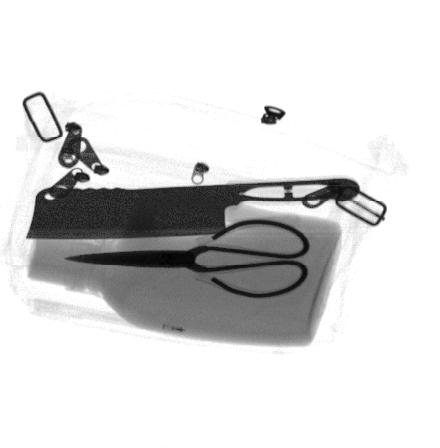Knife: (26, 178, 359, 239)
Scissors: (66, 217, 310, 299)
